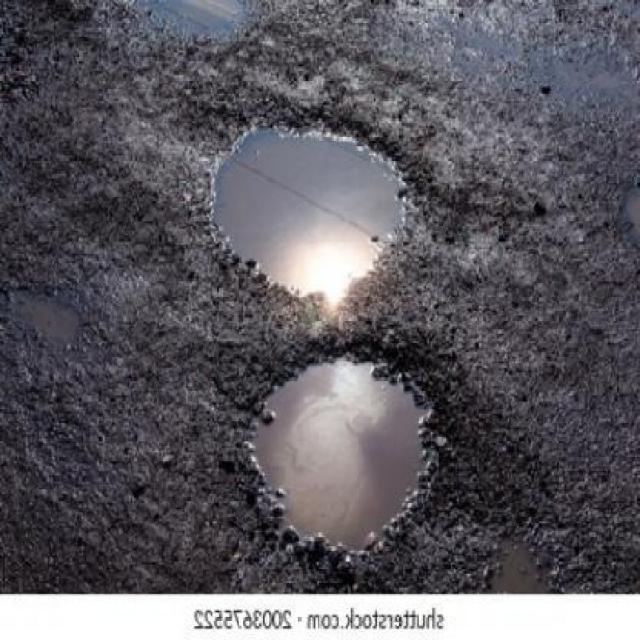pothole: (233, 331, 458, 567), (191, 105, 430, 307)
